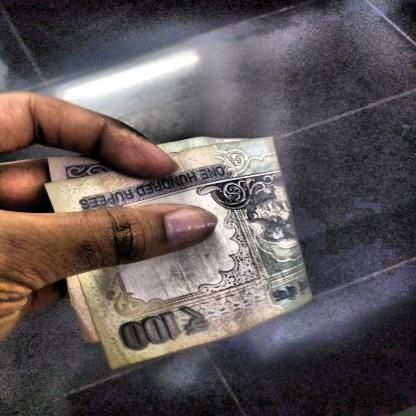Rs100: (111, 299, 223, 363)
